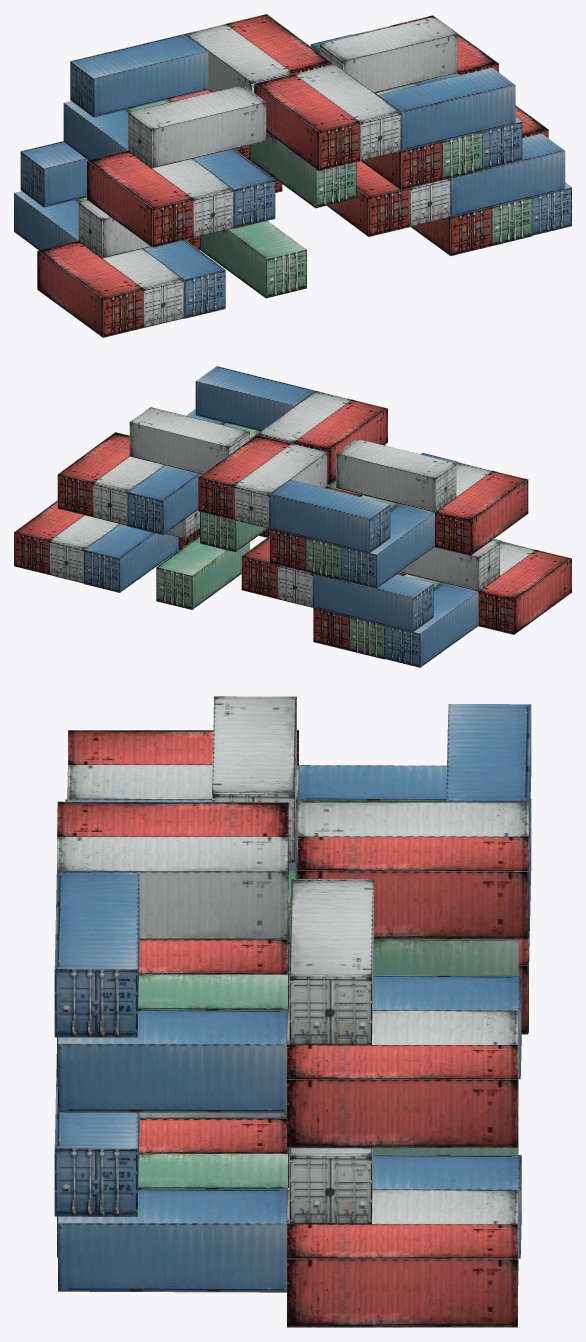
File: countainers.fbx
The picture shows the model from 3 angles, top to bottom: view 1: azimuth 30°, elevation 25°; view 2: azimuth 150°, elevation 25°; view 3: azimuth 270°, elevation 25°; orthographic projection. The views are drawn at different scales.
Visible parts, largest first — view 1: Industrial_Red025.003; view 2: Industrial_Red025.003; view 3: Industrial_Red025.003.
Part boxes in pixels (x1=…): Industrial_Red025.003: x1=14, y1=14, x2=571, y2=337; Industrial_Red025.003: x1=14, y1=366, x2=571, y2=667; Industrial_Red025.003: x1=54, y1=696, x2=531, y2=1327.
Size of the model in its own units: 3407 by 999 by 1578.
